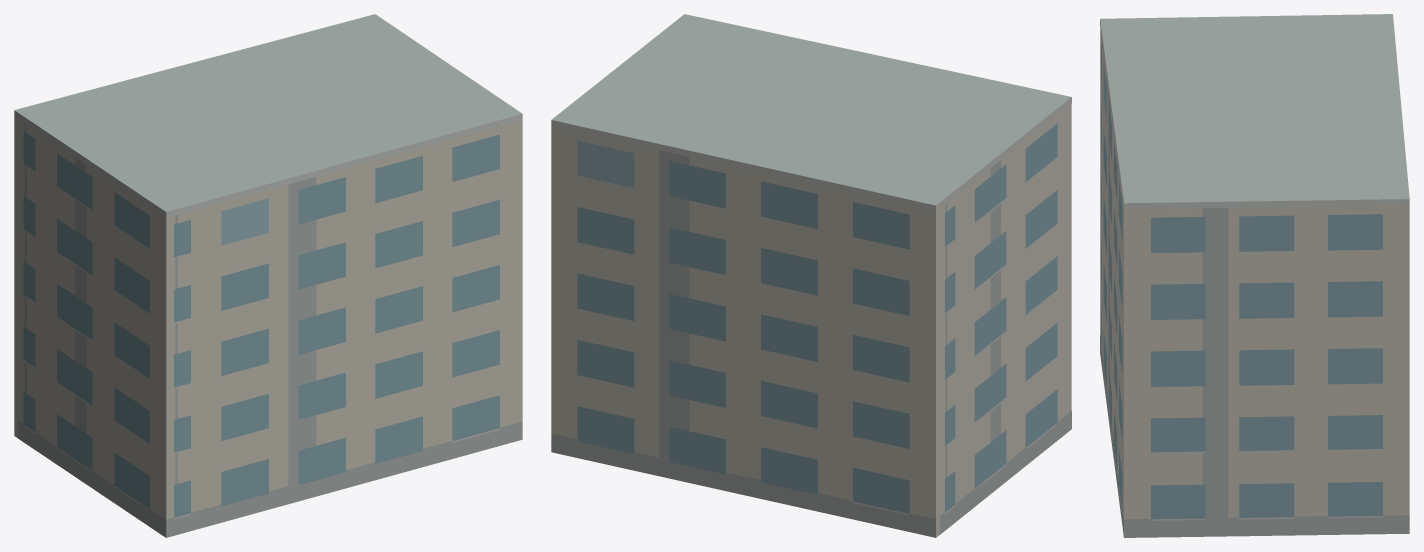
Rendered from survey-upis-32485767.glb.
3 renders of one model, left to right at view 1: azimuth 30°, elevation 25°; view 2: azimuth 150°, elevation 25°; view 3: azimuth 270°, elevation 25°, orthographic. The views are drawn at different scales.
Visible parts, largest first — view 1: survey-upis-32485767.tmp; view 2: survey-upis-32485767.tmp; view 3: survey-upis-32485767.tmp.
Part boxes in pixels (x1,y1,x2,y2): survey-upis-32485767.tmp: (14, 14, 522, 537); survey-upis-32485767.tmp: (551, 14, 1071, 537); survey-upis-32485767.tmp: (1100, 14, 1409, 537).
Bounding box in the file's own units: 15.77 × 13 × 10.91.
